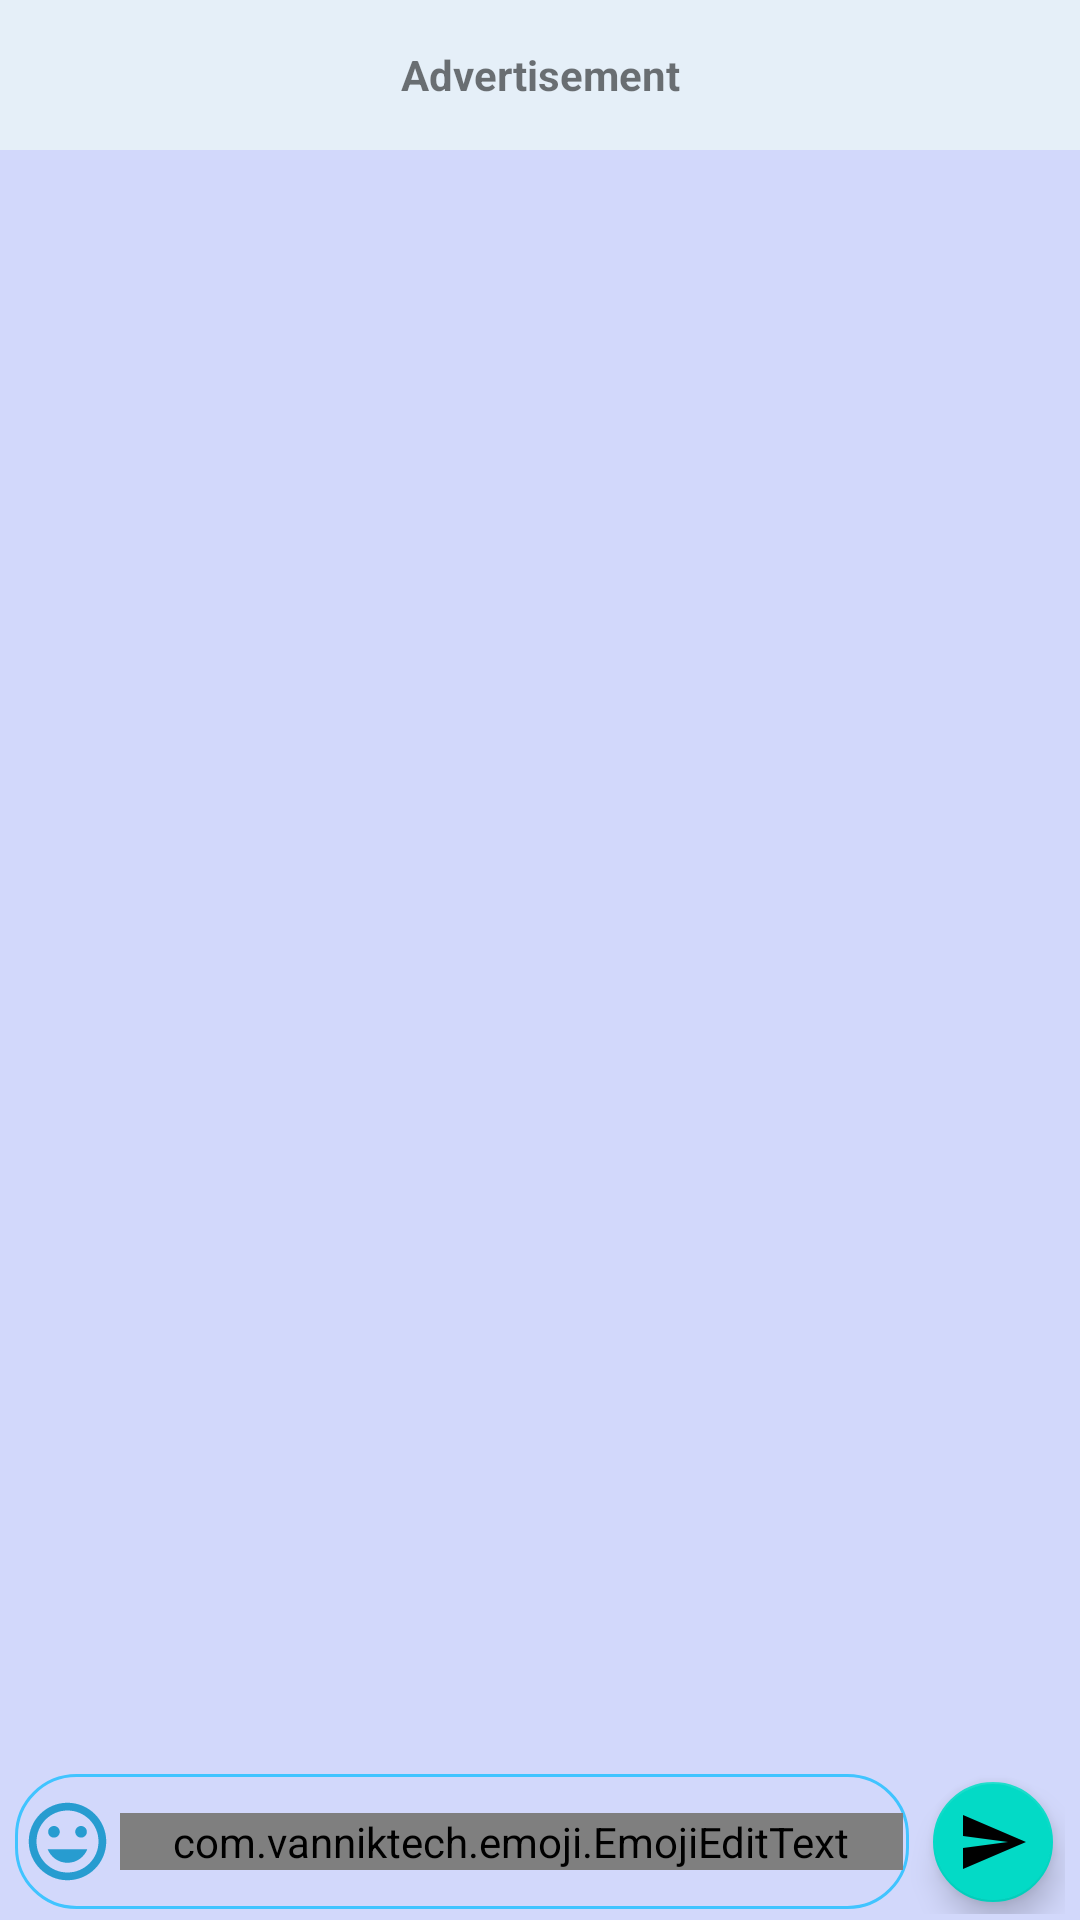

Screen size 1080w x 1920h. Icon name, then its center in pixels as (x=x, y=y):
insert emoticon: (x=67, y=1841)
send: (x=994, y=1848)
